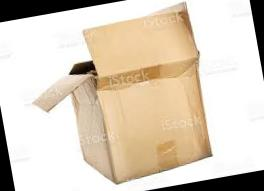cardboard: (15, 0, 245, 191)
